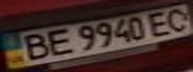0: (127, 13, 151, 42)
4: (112, 17, 133, 44)
9: (75, 22, 100, 52), (93, 20, 118, 48)
B: (15, 30, 54, 62)
C: (160, 6, 193, 33)
E: (142, 8, 178, 37), (42, 27, 75, 57)
